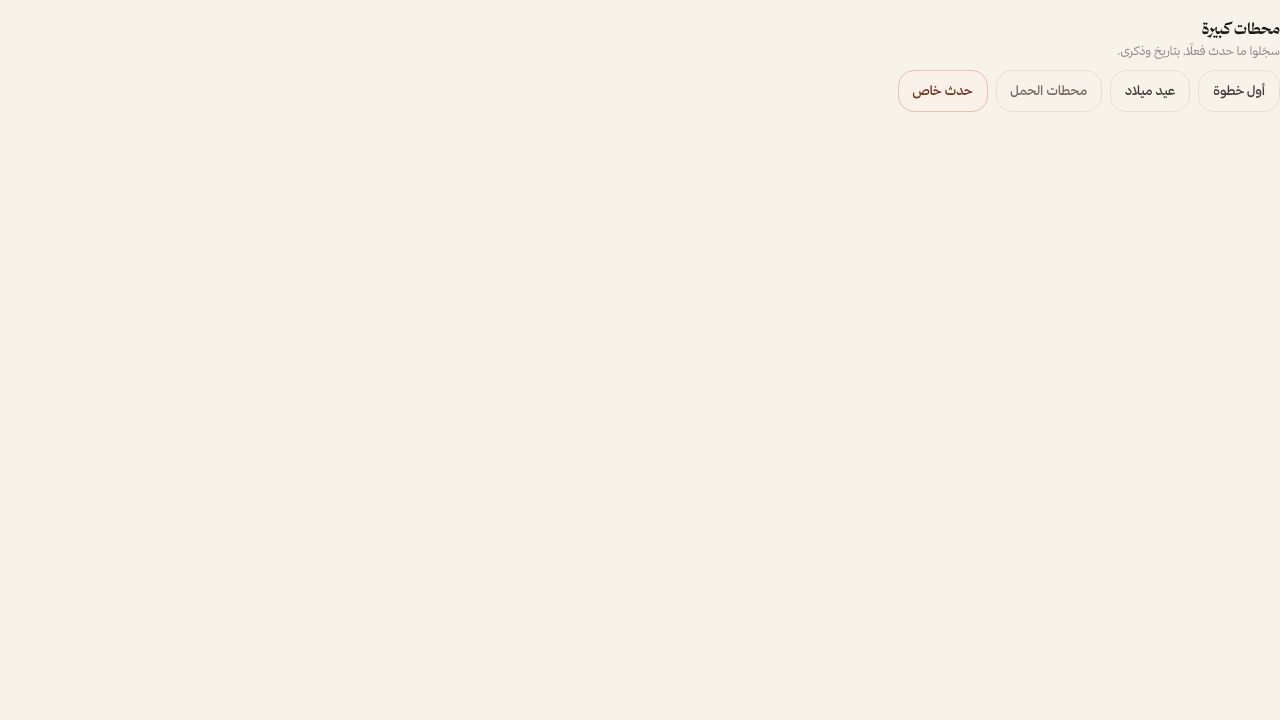
Scenario: تسجيل محطة كبيرة › يتيح تسمية الحدث الخاص قبل حفظه
The width and height of the screenshot is (1280, 720).
Click the button "حدث خاص".
click(943, 91)  # box [898,70,988,112]
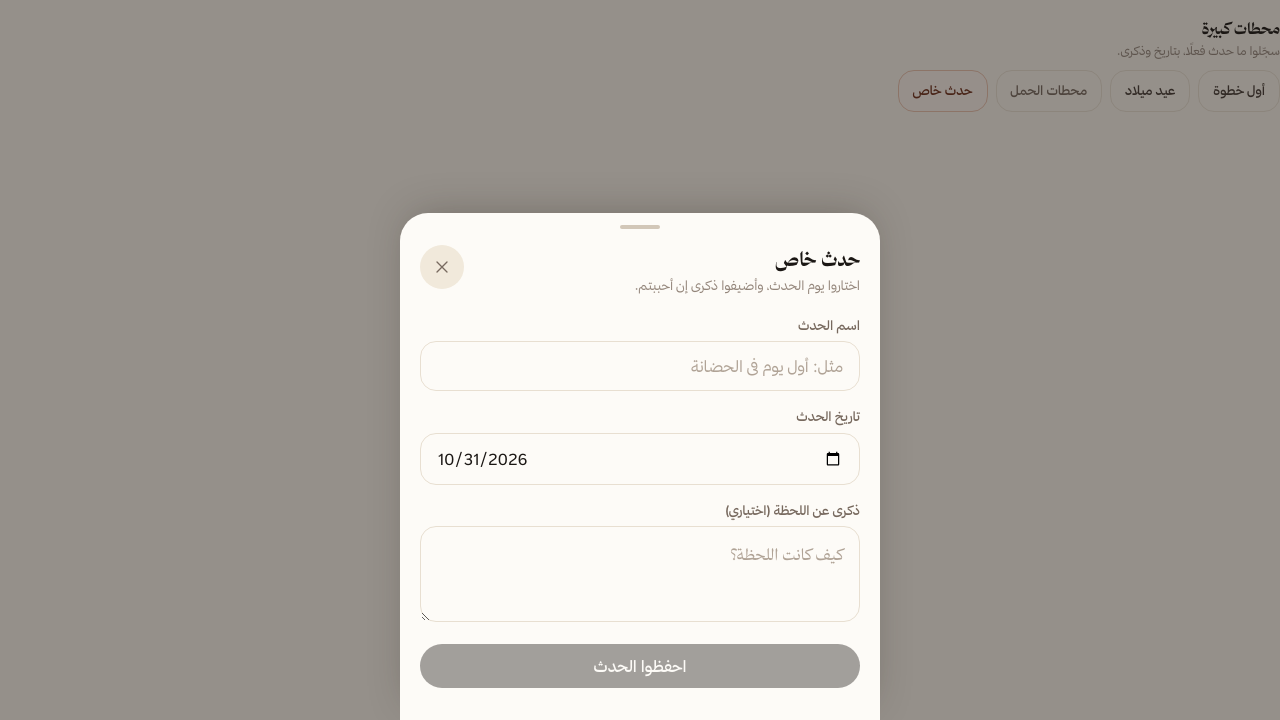
Type "أول يوم في الحضانة" into the field labelled "اسم الحدث".
click(640, 366); type("أول يوم في الحضانة")  # box [420,341,860,391]
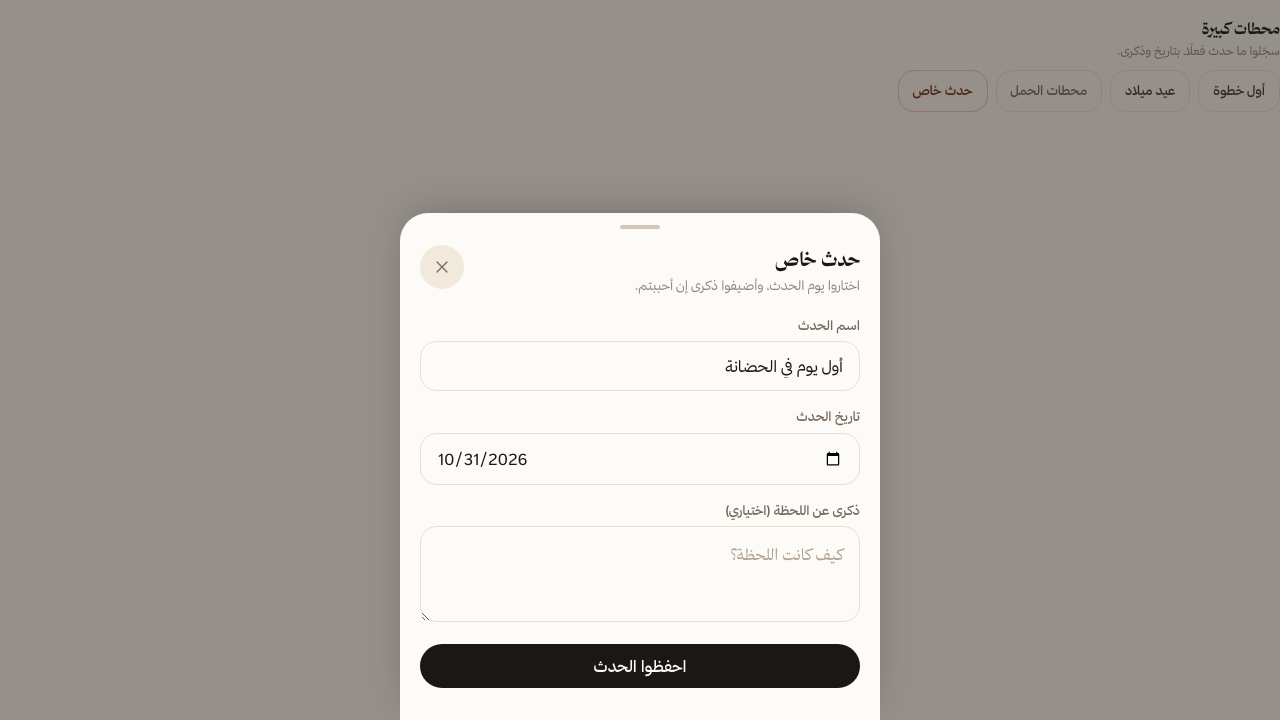
Type "2026-08-14" into the date field labelled "تاريخ الحدث".
click(640, 458); type("2026-08-14")  # box [420,432,860,484]
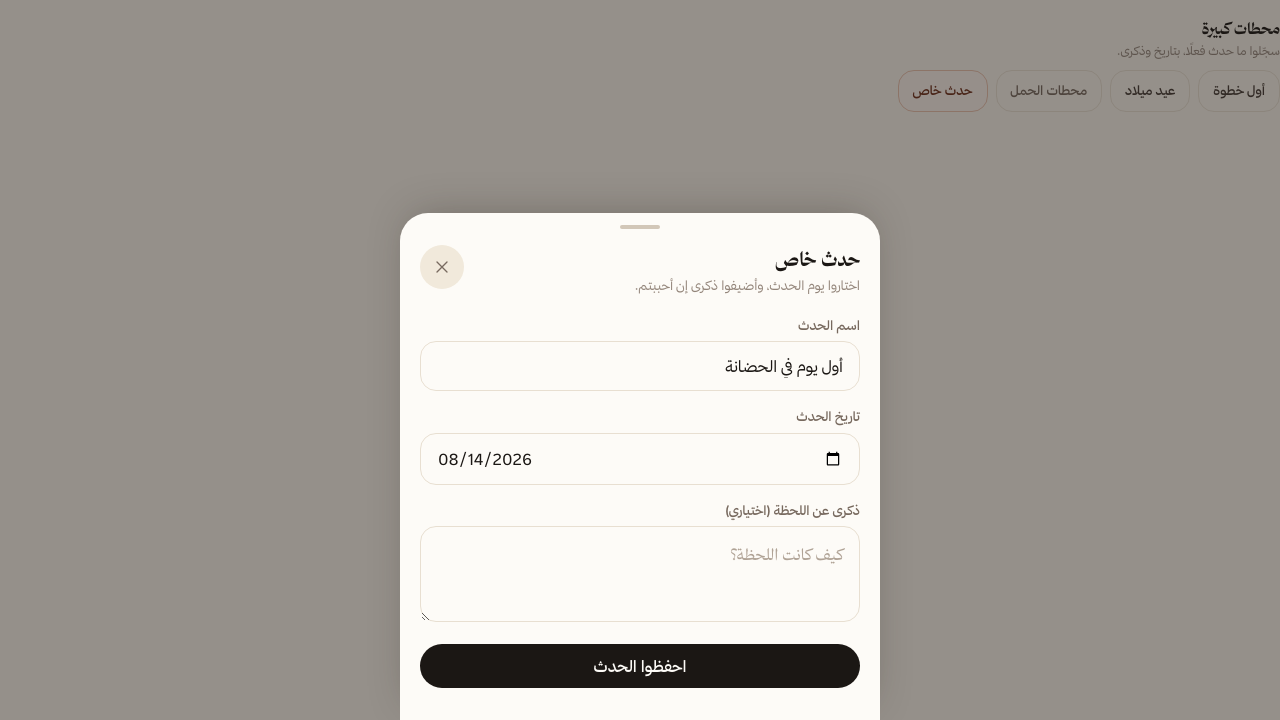
Click the button "احفظوا الحدث".
click(640, 666)  # box [420,644,860,688]
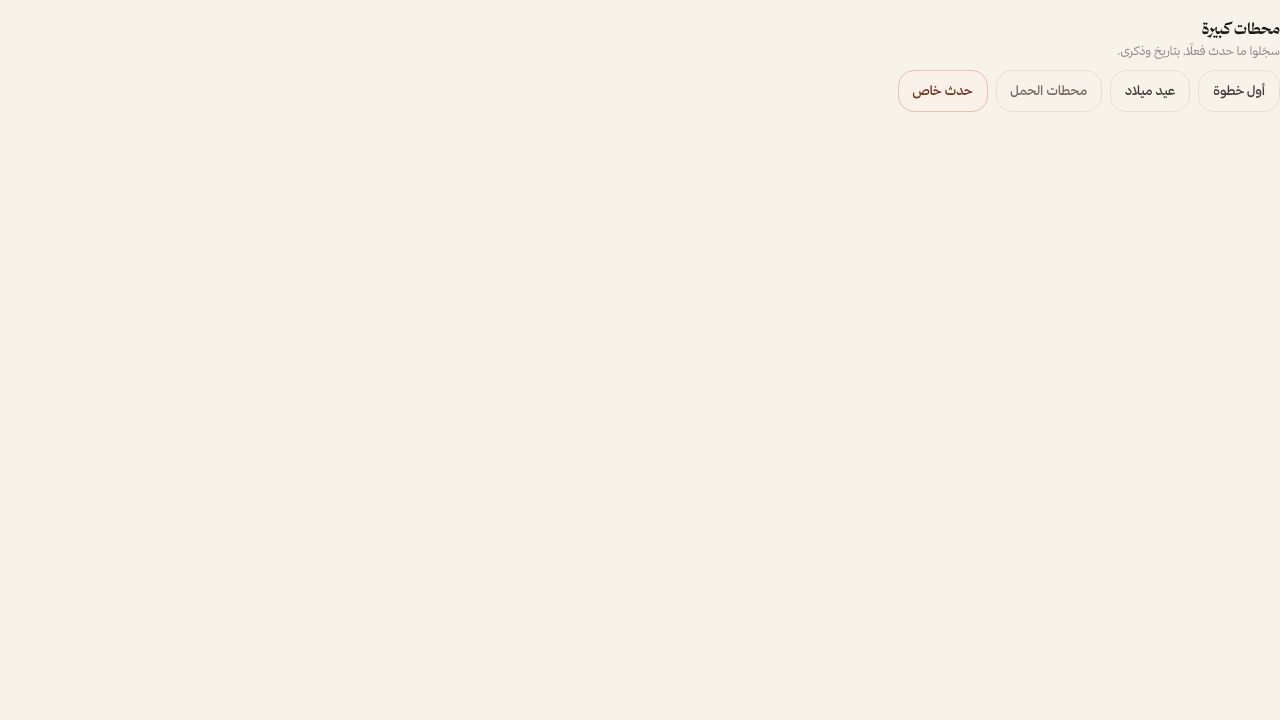
Expected: the dialog is gone
